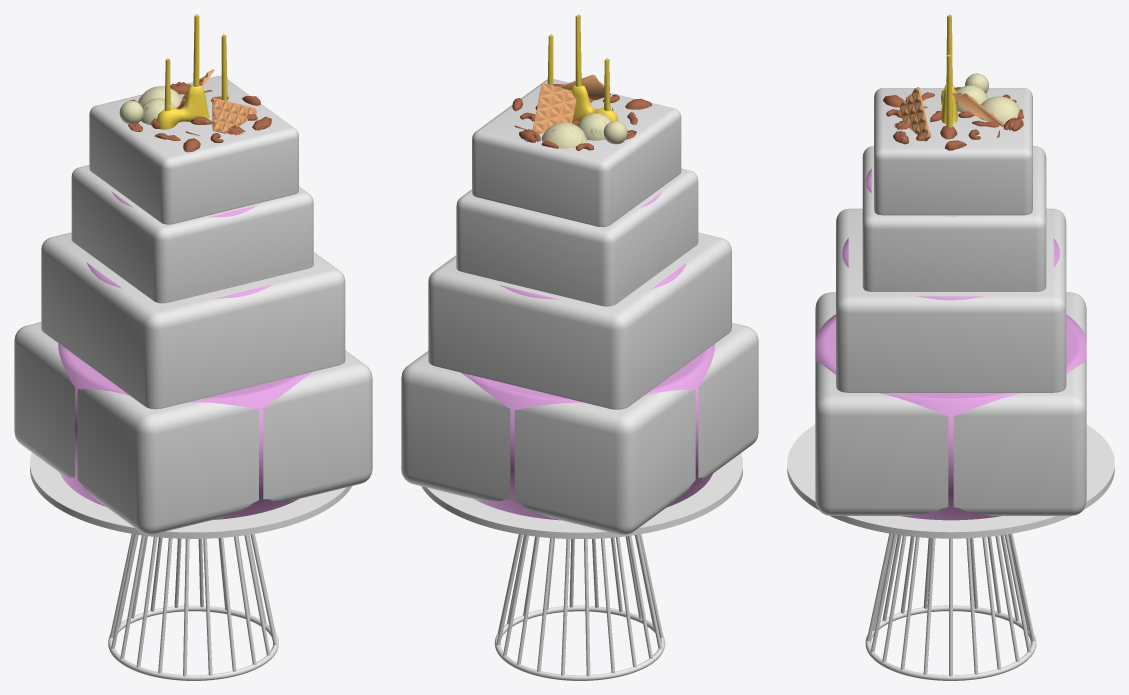
Rendered from tier4.gltf.
3 renders of one model, left to right at view 1: azimuth 30°, elevation 25°; view 2: azimuth 150°, elevation 25°; view 3: azimuth 270°, elevation 25°, orthographic.
Parts seen in each view (by area): view 1: Rectangle1st_layer, Rectangle2nd_layer, Rectangle3rd_layer, Rectangle4th_layer, Base-2, round1st_layer, chandel, nuts, balls, bar; view 2: Rectangle1st_layer, Rectangle2nd_layer, Rectangle3rd_layer, Rectangle4th_layer, Base-2, round1st_layer, bar, balls, chandel, nuts; view 3: Rectangle1st_layer, Rectangle2nd_layer, Base-2, Rectangle3rd_layer, Rectangle4th_layer, round1st_layer, nuts, bar, balls, chandel, round2nd_layer.
Part boxes in pixels (left/top/right/bottom): Rectangle1st_layer: left=14, top=322, right=372, bottom=534; Rectangle2nd_layer: left=41, top=232, right=345, bottom=409; Rectangle3rd_layer: left=71, top=165, right=313, bottom=303; Rectangle4th_layer: left=89, top=75, right=298, bottom=224; Base-2: left=30, top=453, right=351, bottom=680; round1st_layer: left=58, top=343, right=312, bottom=519; chandel: left=156, top=14, right=227, bottom=129; nuts: left=128, top=82, right=271, bottom=152; balls: left=119, top=86, right=181, bottom=124; bar: left=177, top=69, right=256, bottom=133; Rectangle1st_layer: left=401, top=322, right=758, bottom=534; Rectangle2nd_layer: left=428, top=232, right=731, bottom=409; Rectangle3rd_layer: left=456, top=168, right=698, bottom=306; Rectangle4th_layer: left=472, top=79, right=681, bottom=227; Base-2: left=421, top=453, right=742, bottom=680; round1st_layer: left=461, top=344, right=714, bottom=520; bar: left=532, top=74, right=610, bottom=133; balls: left=541, top=113, right=627, bottom=148; chandel: left=547, top=14, right=618, bottom=121; nuts: left=512, top=84, right=652, bottom=150; Rectangle1st_layer: left=815, top=292, right=1086, bottom=515; Rectangle2nd_layer: left=836, top=208, right=1066, bottom=392; Base-2: left=787, top=424, right=1114, bottom=680; Rectangle3rd_layer: left=862, top=146, right=1046, bottom=291; Rectangle4th_layer: left=874, top=88, right=1032, bottom=215; round1st_layer: left=815, top=314, right=1086, bottom=520; nuts: left=883, top=87, right=1023, bottom=150; bar: left=899, top=87, right=1003, bottom=141; balls: left=956, top=73, right=1020, bottom=122; chandel: left=941, top=14, right=957, bottom=127; round2nd_layer: left=842, top=238, right=1059, bottom=300.
Size of the model in its own units: 2.3 by 4.9 by 2.3.
